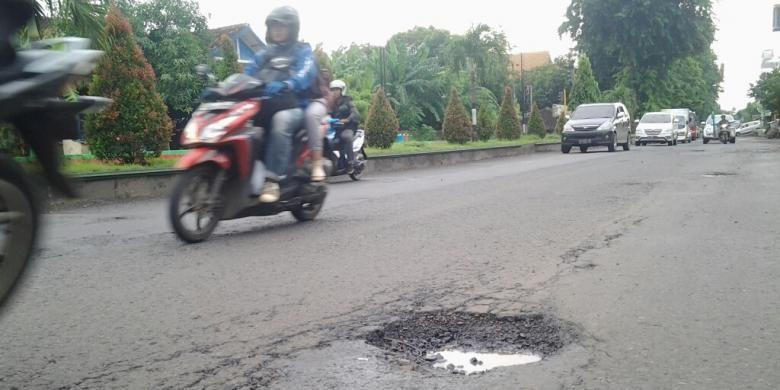Pothole: (336, 277, 592, 378)
